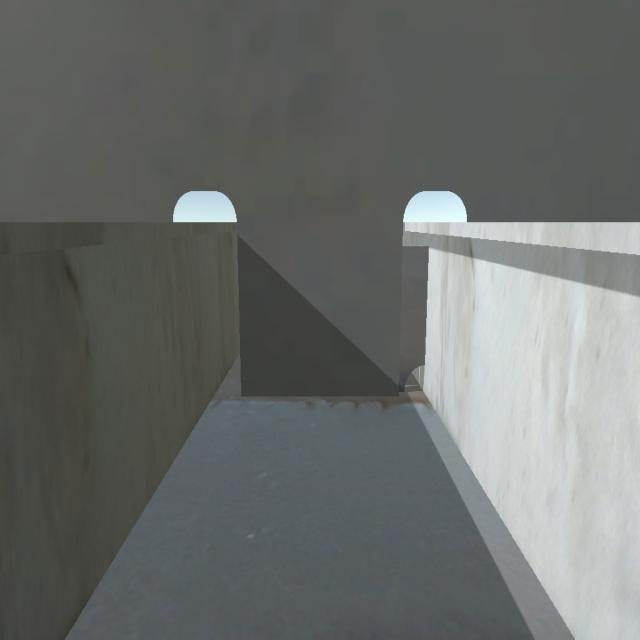fillet_hole: (403, 366, 427, 394)
fillet_yong_jeop_jang: (241, 389, 404, 399)
longi_yong_jeop_jang: (400, 242, 430, 390), (420, 245, 435, 368)
